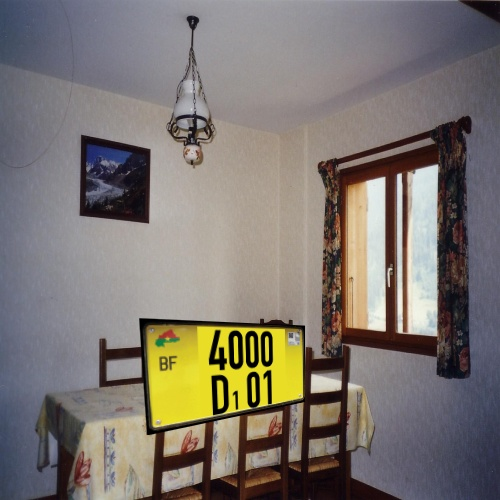plate: (120, 301, 335, 453)
